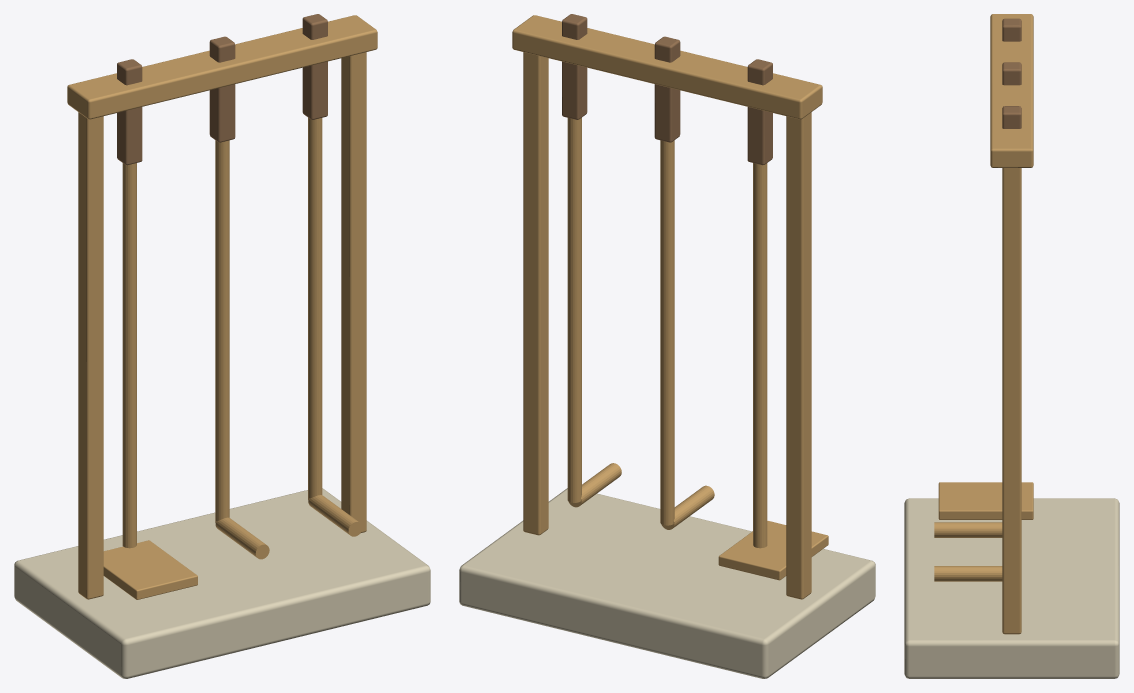
File: fantasy-bathhouse-and-thermal-sanctuary-fantasy-bathho-4a22f72e__29449.glb
The picture shows the model from 3 angles, left to right: view 1: azimuth 30°, elevation 25°; view 2: azimuth 150°, elevation 25°; view 3: azimuth 270°, elevation 25°; orthographic projection. The views are drawn at different scales.
Visible parts, largest first — view 1: fantasy-bathhouse-and-thermal-sanctuary-stoking-tool-rack; view 2: fantasy-bathhouse-and-thermal-sanctuary-stoking-tool-rack; view 3: fantasy-bathhouse-and-thermal-sanctuary-stoking-tool-rack.
Boxes of the visible parts, x1,y1,x2,y2 form: fantasy-bathhouse-and-thermal-sanctuary-stoking-tool-rack: (14,14,430,678); fantasy-bathhouse-and-thermal-sanctuary-stoking-tool-rack: (459,14,875,678); fantasy-bathhouse-and-thermal-sanctuary-stoking-tool-rack: (904,14,1119,678).
Bounding box in the file's own units: 0.8 × 1.39 × 0.5.
